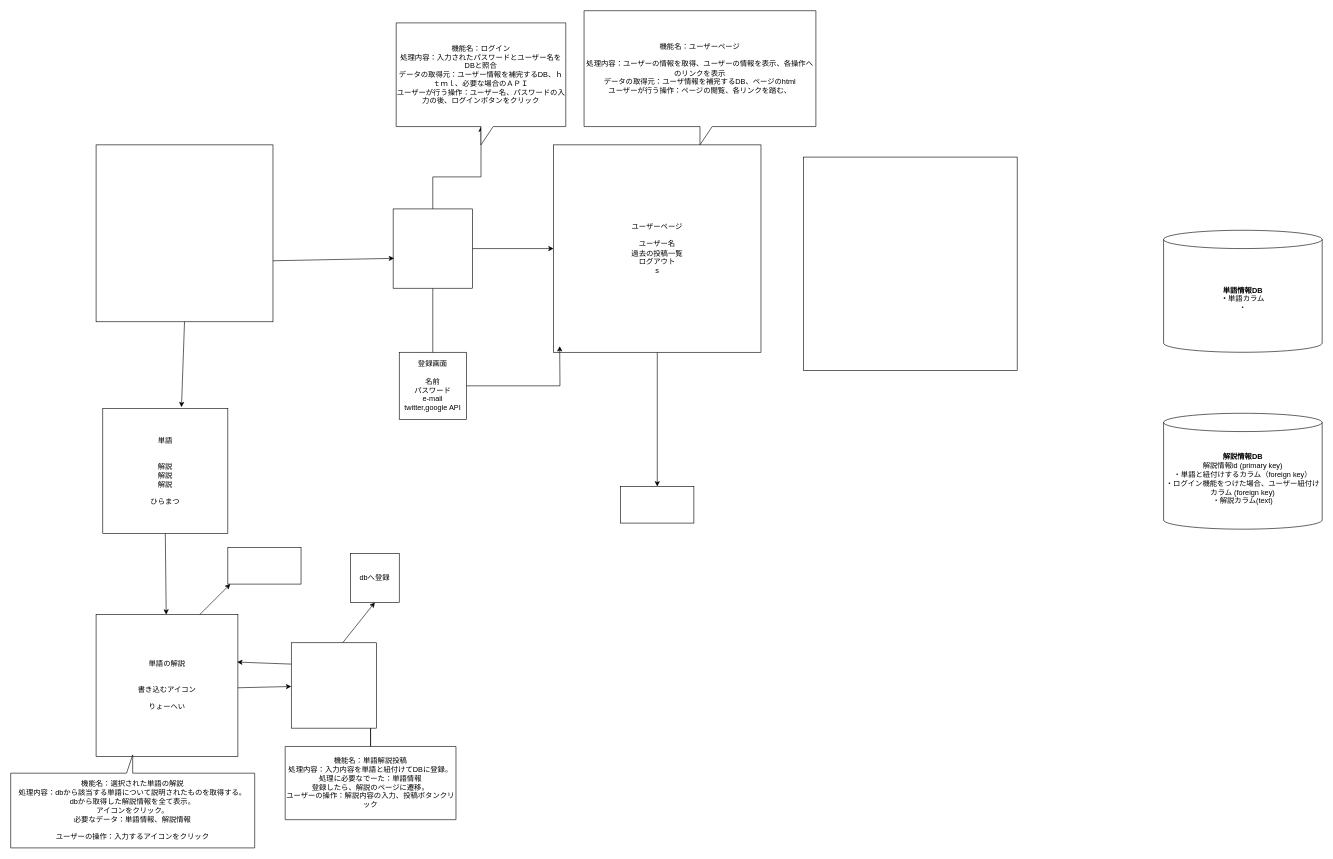
Some shapes in this 1333 by 859 pixel diagram are drawn without their labels. The shapes that lost their labels are listed below. From the top down, each one's box as (x1, y1, x2, y2) in pixels, then its label:
(95, 144, 273, 322): ホーム画面 検索窓 単語がずらり ひらまつ
(393, 208, 472, 288): ログイン パスワード ユーザー名 ひろみ
(803, 156, 1017, 371): 機能名 処理内容 処理に必要なデータ データの取得元 ユーザーが行い操作
(620, 486, 694, 523): ログインした状態
(227, 547, 301, 584): dbへ検索
(291, 642, 377, 728): 解説 投稿 りょーへい
